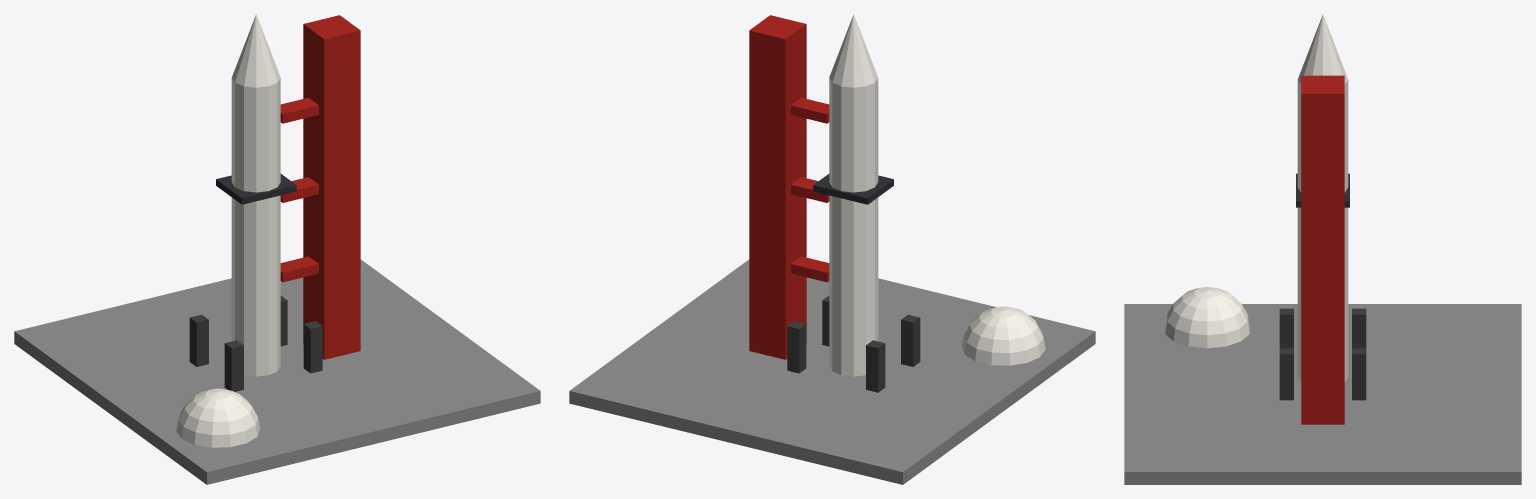
File: launch_complex.glb
3 renders of one model, left to right at view 1: azimuth 30°, elevation 25°; view 2: azimuth 150°, elevation 25°; view 3: azimuth 270°, elevation 25°, orthographic. The views are drawn at different scales.
Parts seen in each view (by area): view 1: launch_complex; view 2: launch_complex; view 3: launch_complex.
Part boxes in pixels (box(x1,y1,x2,y2)): launch_complex: box(14, 14, 540, 484); launch_complex: box(569, 14, 1095, 484); launch_complex: box(1124, 14, 1521, 484).
Size of the model in its own units: 1.1 by 1.15 by 1.1.
